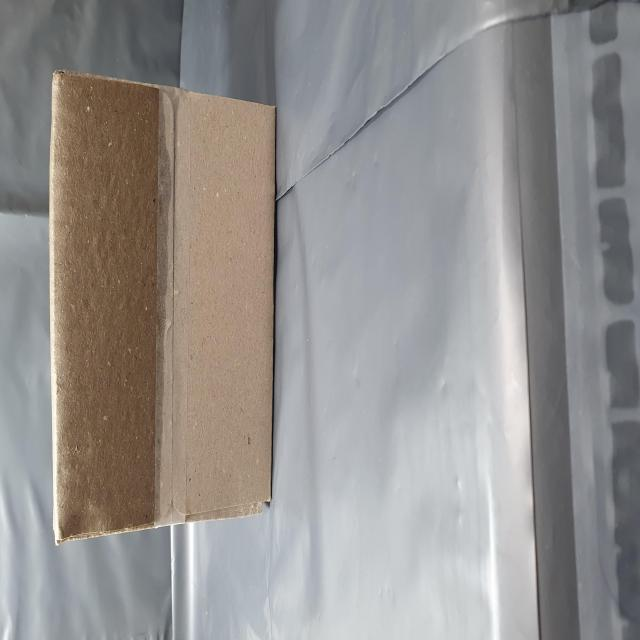wet: (53, 89, 320, 501)
